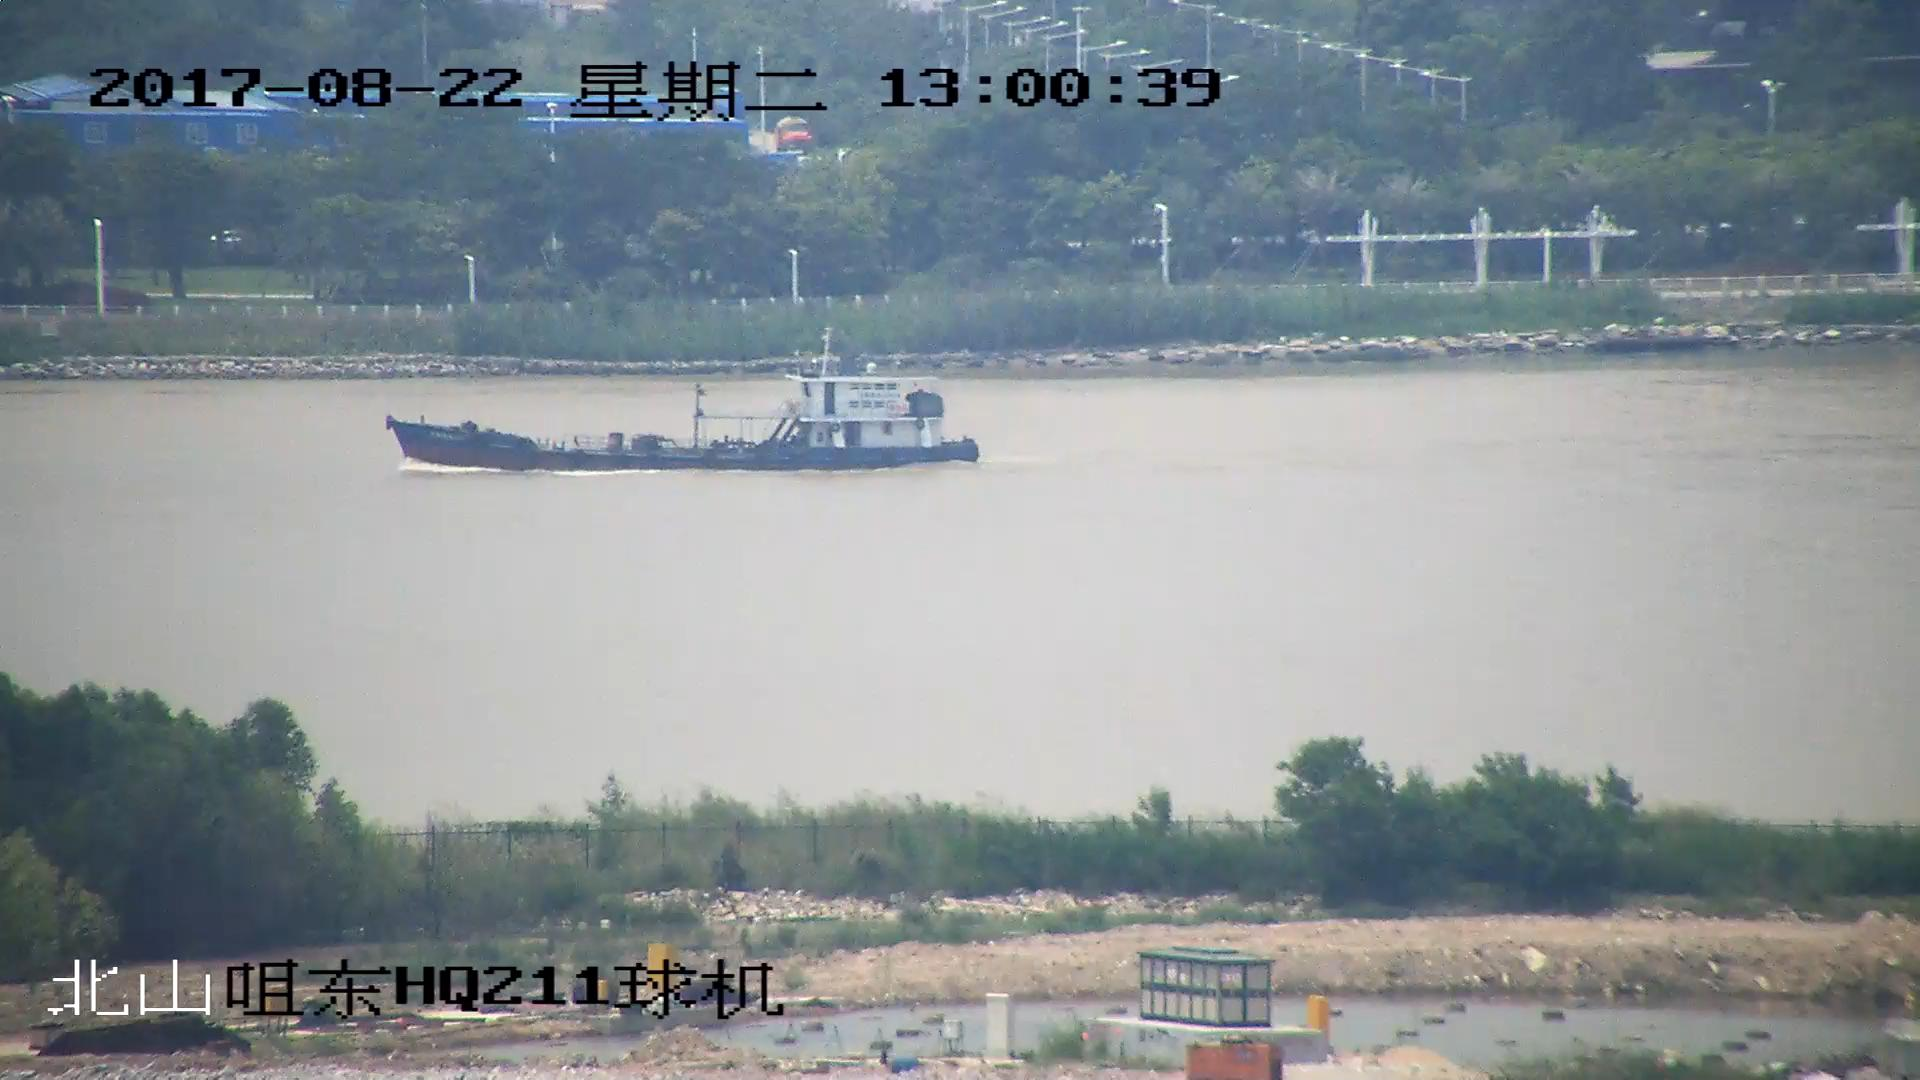fishing boat: (385, 336, 980, 469)
